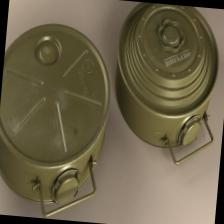TM-46: (0, 9, 117, 223), (108, 0, 224, 165)
